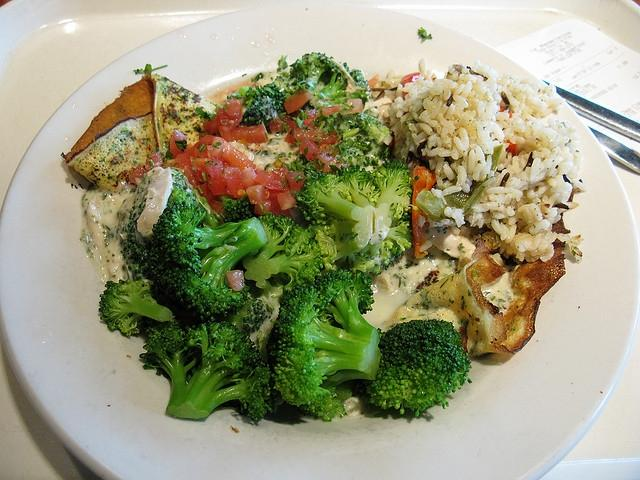broccoli: (118, 169, 270, 326), (266, 269, 382, 423), (290, 160, 420, 278), (140, 318, 284, 421), (359, 318, 473, 417), (242, 213, 324, 297), (99, 278, 174, 336), (227, 84, 288, 126), (288, 52, 338, 92), (344, 110, 393, 146), (336, 120, 352, 132)
